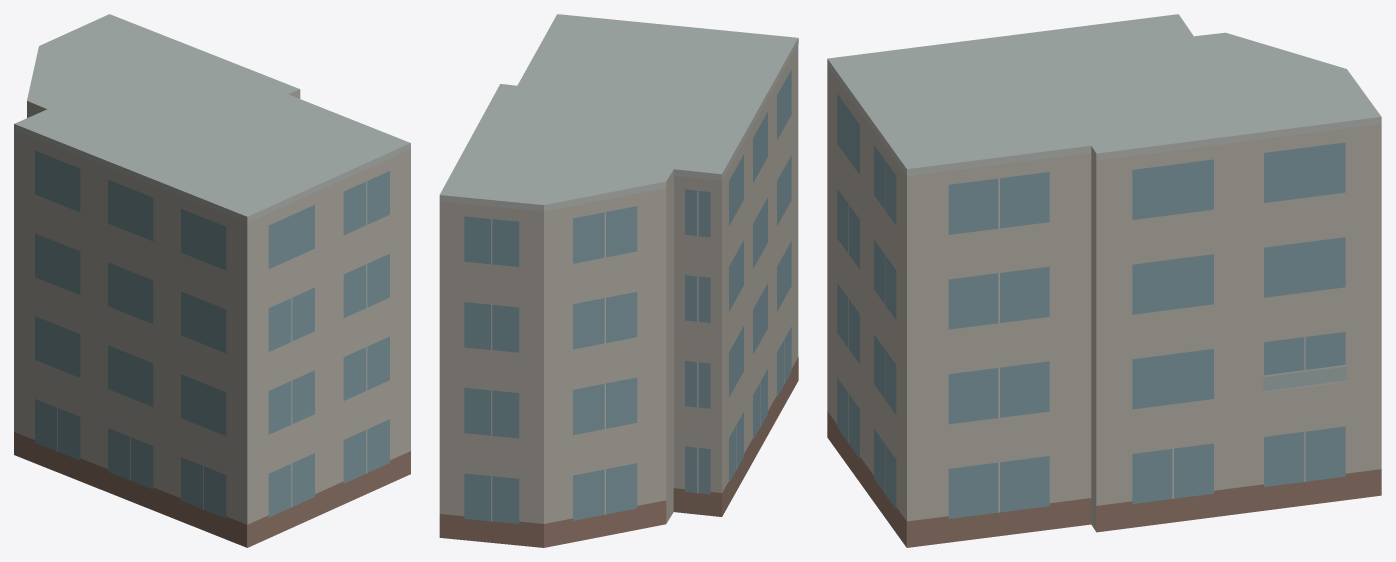
The model's file is survey-upis-32610667.glb.
The picture shows the model from 3 angles, left to right: view 1: azimuth 30°, elevation 25°; view 2: azimuth 150°, elevation 25°; view 3: azimuth 270°, elevation 25°; orthographic projection. The views are drawn at different scales.
Parts seen in each view (by area): view 1: survey-upis-32610667.tmp; view 2: survey-upis-32610667.tmp; view 3: survey-upis-32610667.tmp.
Boxes of the visible parts, x1,y1,x2,y2 form: survey-upis-32610667.tmp: (14,14,410,547); survey-upis-32610667.tmp: (439,14,798,547); survey-upis-32610667.tmp: (827,14,1381,547).
Size of the model in its own units: 11.34 by 12.9 by 17.12.
